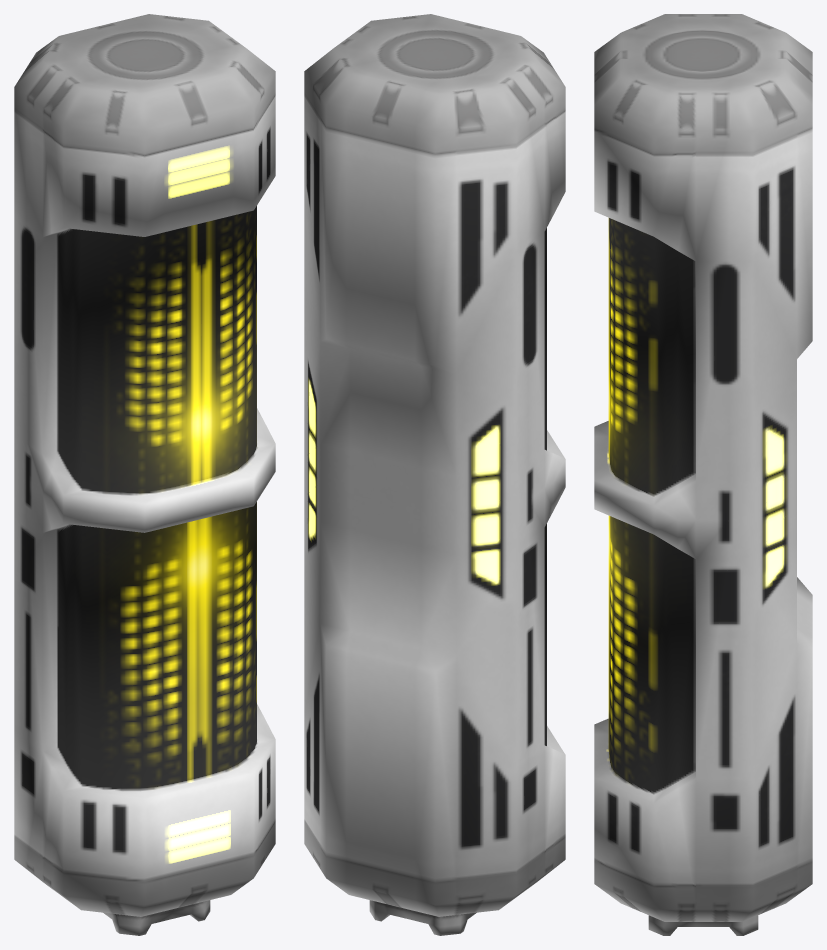
File: LabTubes02_7.FBX
3 renders of one model, left to right at view 1: azimuth 30°, elevation 25°; view 2: azimuth 150°, elevation 25°; view 3: azimuth 270°, elevation 25°, orthographic.
Visible parts, largest first — view 1: LabTubes02_7; view 2: LabTubes02_7; view 3: LabTubes02_7.
Part boxes in pixels (x1,y1,x2,y2): LabTubes02_7: [14, 14, 275, 935]; LabTubes02_7: [304, 14, 565, 935]; LabTubes02_7: [594, 14, 812, 935].
Size of what is drawn, in the model's own units: 0.0856 by 0.3294 by 0.076.
